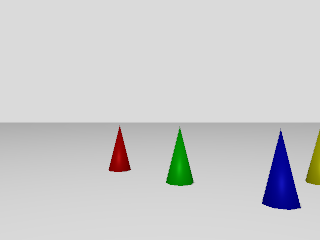blue: (262, 128, 302, 211)
green: (164, 126, 195, 185)
red: (107, 125, 132, 171)
yellow: (305, 128, 320, 183)
